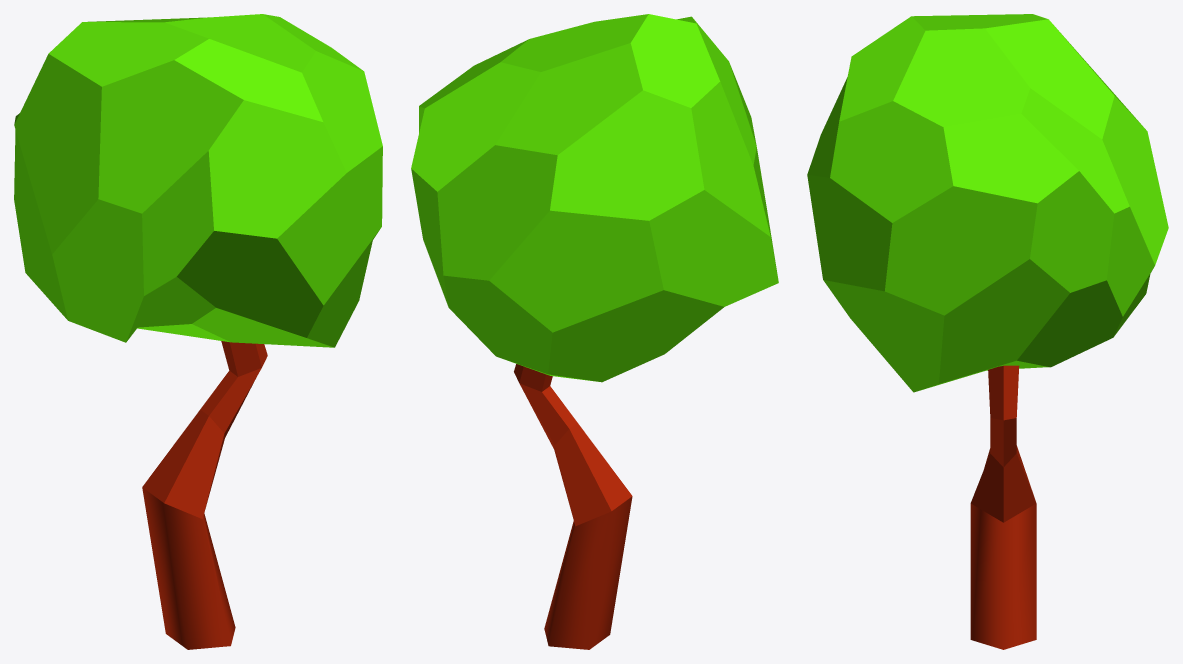
Rendered from tree_1.FBX.
The picture shows the model from 3 angles, left to right: view 1: azimuth 30°, elevation 25°; view 2: azimuth 150°, elevation 25°; view 3: azimuth 270°, elevation 25°; orthographic projection. The views are drawn at different scales.
Parts seen in each view (by area): view 1: Hedra001, Cylinder002; view 2: Hedra001, Cylinder002; view 3: Hedra001, Cylinder002.
Boxes of the visible parts, <box> form: Hedra001: <box>14,14,382,347</box>; Cylinder002: <box>142,341,267,649</box>; Hedra001: <box>411,14,778,382</box>; Cylinder002: <box>514,364,632,649</box>; Hedra001: <box>807,14,1168,392</box>; Cylinder002: <box>970,365,1036,649</box>.
Bounding box in the file's own units: 65.79 × 121 × 67.59.
